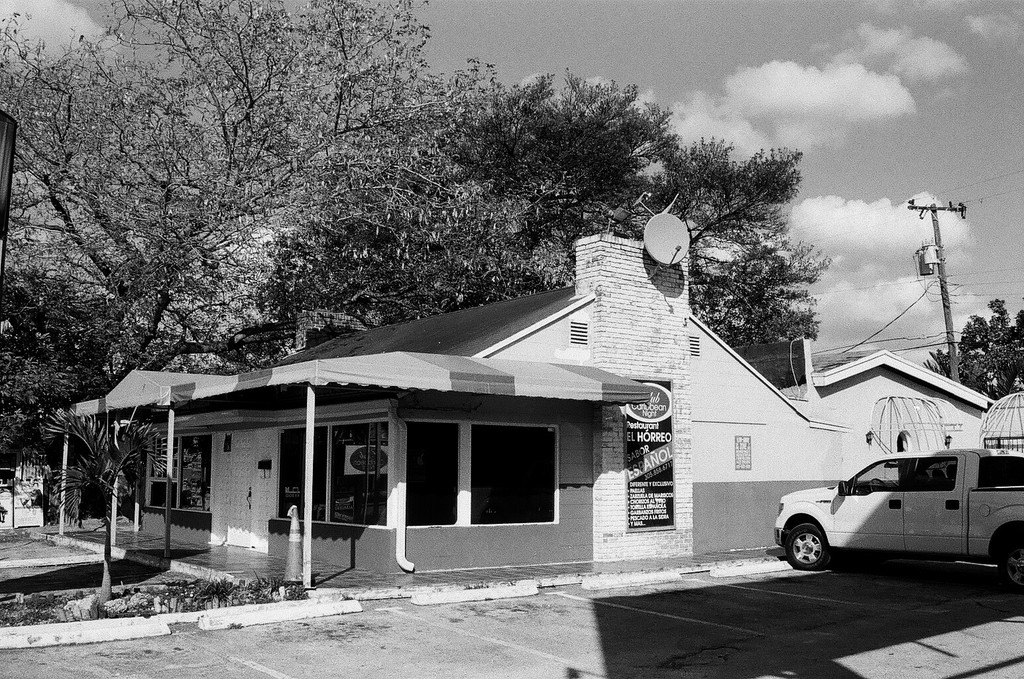Car: (780, 452, 1023, 590)
